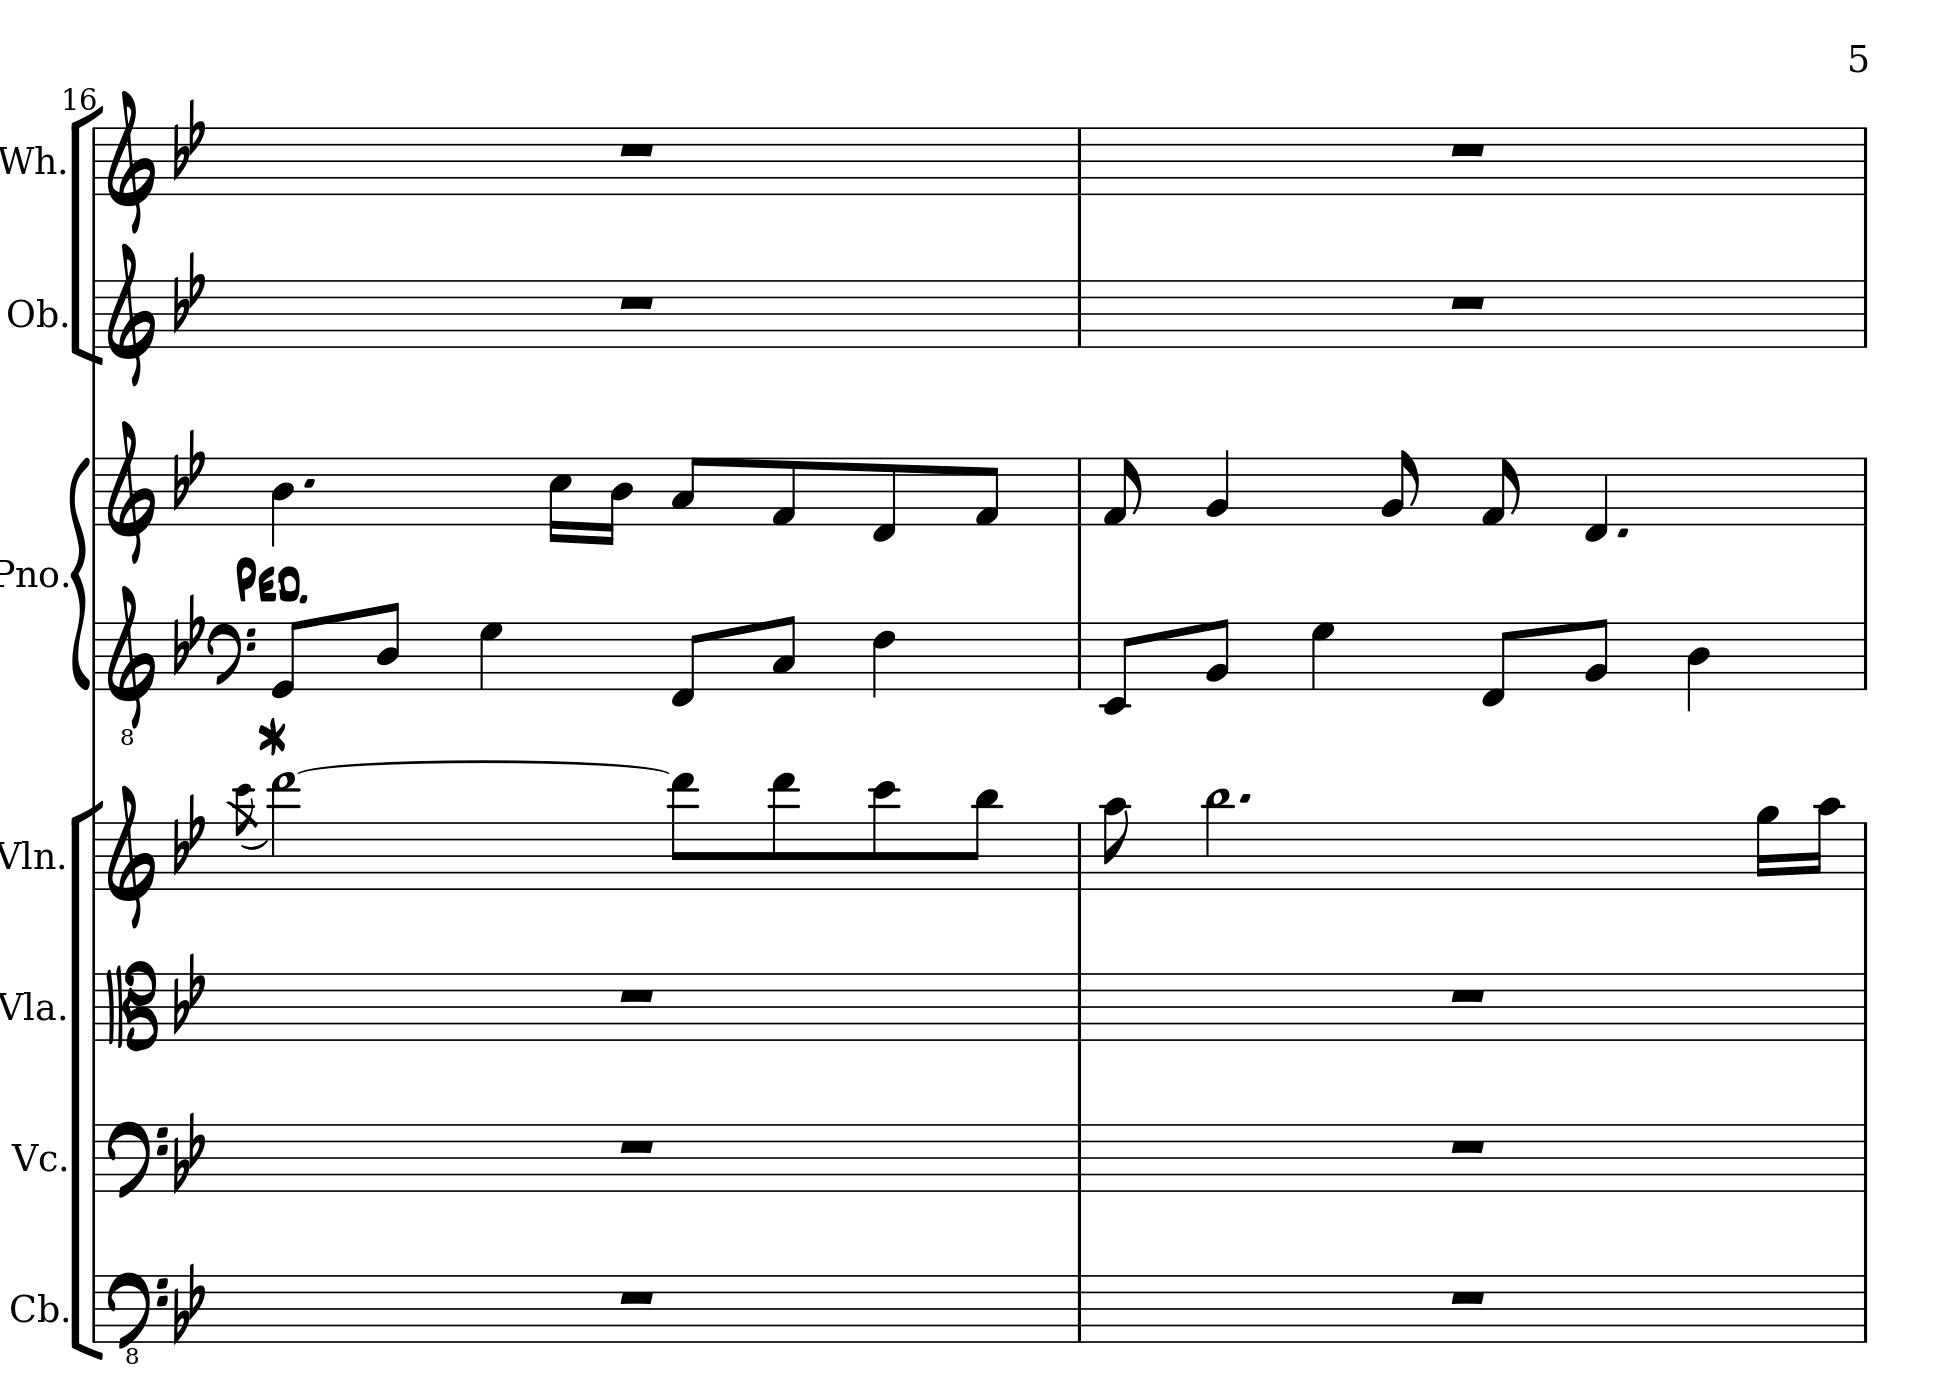1: (61, 85, 75, 112)
16_10: (1809, 796, 1842, 892)
16_4: (601, 454, 634, 547)
16_5: (547, 456, 573, 544)
16_9: (1755, 802, 1779, 892)
2_11: (1203, 787, 1231, 892)
4_-1: (1582, 454, 1609, 543)
4_13: (268, 772, 298, 892)
4_2: (1206, 448, 1231, 526)
4_4: (1686, 619, 1711, 712), (270, 456, 295, 547)
4_6: (871, 619, 895, 699)
4_7: (1309, 619, 1338, 691), (478, 619, 504, 691)
5: (1848, 39, 1870, 75)
6: (79, 82, 97, 111)
8_-1: (670, 619, 703, 708), (1480, 619, 1513, 708), (870, 454, 898, 544)
8_-2: (1101, 619, 1137, 715)
8_0: (270, 618, 304, 700)
8_1: (1480, 456, 1522, 526), (1104, 456, 1144, 526), (769, 454, 798, 526), (973, 454, 1002, 526)
8_10: (1102, 796, 1132, 891)
8_11: (963, 786, 1000, 892)
8_12: (868, 778, 898, 892)
8_13: (768, 771, 798, 891), (667, 772, 697, 891)
8_2: (1381, 448, 1419, 526), (1206, 616, 1231, 691), (1584, 616, 1609, 691)
8_3: (670, 454, 703, 526), (771, 613, 796, 691)
8_4: (375, 601, 400, 691)
Acciaccature: (228, 780, 259, 889)
B_F: (172, 249, 205, 334), (172, 949, 205, 1033), (172, 1110, 205, 1194), (172, 97, 205, 180), (172, 427, 205, 510), (172, 792, 205, 874), (172, 1261, 205, 1344), (172, 591, 204, 676)
Brace: (70, 451, 90, 691)
Bracke: (67, 796, 100, 1360), (70, 109, 100, 370)
Cbs: (7, 1288, 60, 1326)
Cclef: (103, 958, 159, 1051)
Fclef: (105, 1117, 168, 1198), (207, 618, 259, 688)
Gclef: (105, 241, 157, 387), (103, 418, 156, 564), (105, 783, 156, 928), (106, 88, 156, 234)
Lower_Fclef: (105, 1267, 166, 1363)
Lower_Gclef: (105, 583, 156, 747)
Ob: (4, 294, 61, 331)
Pno: (1, 556, 58, 589)
Rests1: (615, 984, 658, 1006), (615, 1285, 658, 1308), (1446, 1285, 1489, 1308), (615, 292, 658, 313), (615, 1135, 658, 1156), (1446, 1135, 1489, 1156), (1447, 984, 1489, 1005), (616, 139, 658, 159), (1447, 139, 1489, 159), (1447, 292, 1489, 312)
Single_barline: (1071, 972, 1089, 1039), (1071, 127, 1089, 193), (1071, 1123, 1089, 1189), (1071, 280, 1089, 345), (1071, 822, 1087, 889), (1857, 1123, 1873, 1191), (1857, 127, 1873, 193), (1857, 457, 1873, 523), (1072, 621, 1089, 687), (1857, 822, 1873, 888), (1857, 973, 1873, 1039), (1857, 1275, 1873, 1341), (1857, 280, 1873, 345), (1857, 622, 1873, 687), (1071, 1275, 1087, 1339), (87, 280, 100, 357), (87, 820, 102, 888), (85, 973, 100, 1039), (87, 1276, 102, 1339), (88, 457, 102, 526), (87, 127, 100, 193), (87, 1125, 100, 1189), (88, 622, 100, 688)
Slur: (237, 837, 268, 850)
Vc: (7, 1135, 57, 1177)
Vla: (1, 984, 58, 1030)
Vln: (1, 834, 58, 876)
Wh: (1, 142, 55, 178)
dot: (1236, 789, 1254, 805), (300, 475, 316, 490), (1614, 523, 1630, 538)
